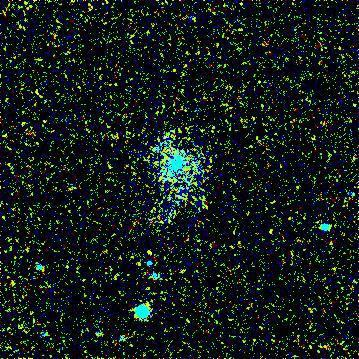star: (135, 238, 165, 268)
